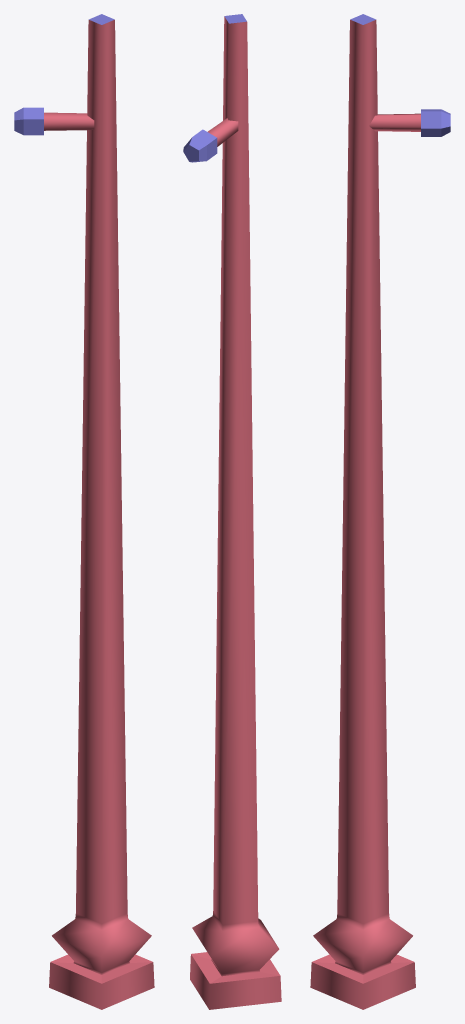
Rendered from Pinwheel_Stick.fbx.
3 renders of one model, left to right at view 1: azimuth 90°, elevation 25°; view 2: azimuth 150°, elevation 25°; view 3: azimuth 270°, elevation 25°, orthographic.
Visible parts, largest first — view 1: Stick; view 2: Stick; view 3: Stick.
Boxes of the visible parts, x1=… form: Stick: x1=14, y1=14, x2=154, y2=1009; Stick: x1=183, y1=14, x2=281, y2=1009; Stick: x1=310, y1=14, x2=450, y2=1009.
Size of the model in its own units: 29.05 by 294 by 38.57.
